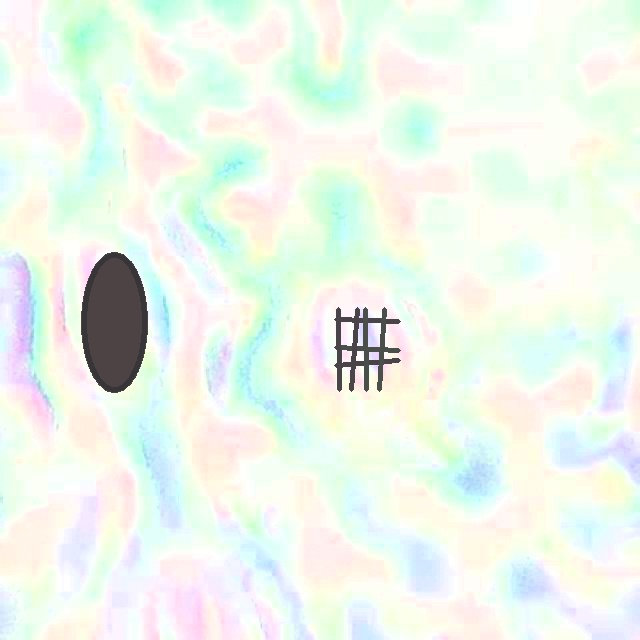close: (334, 307, 400, 391)
open: (81, 253, 147, 392)
